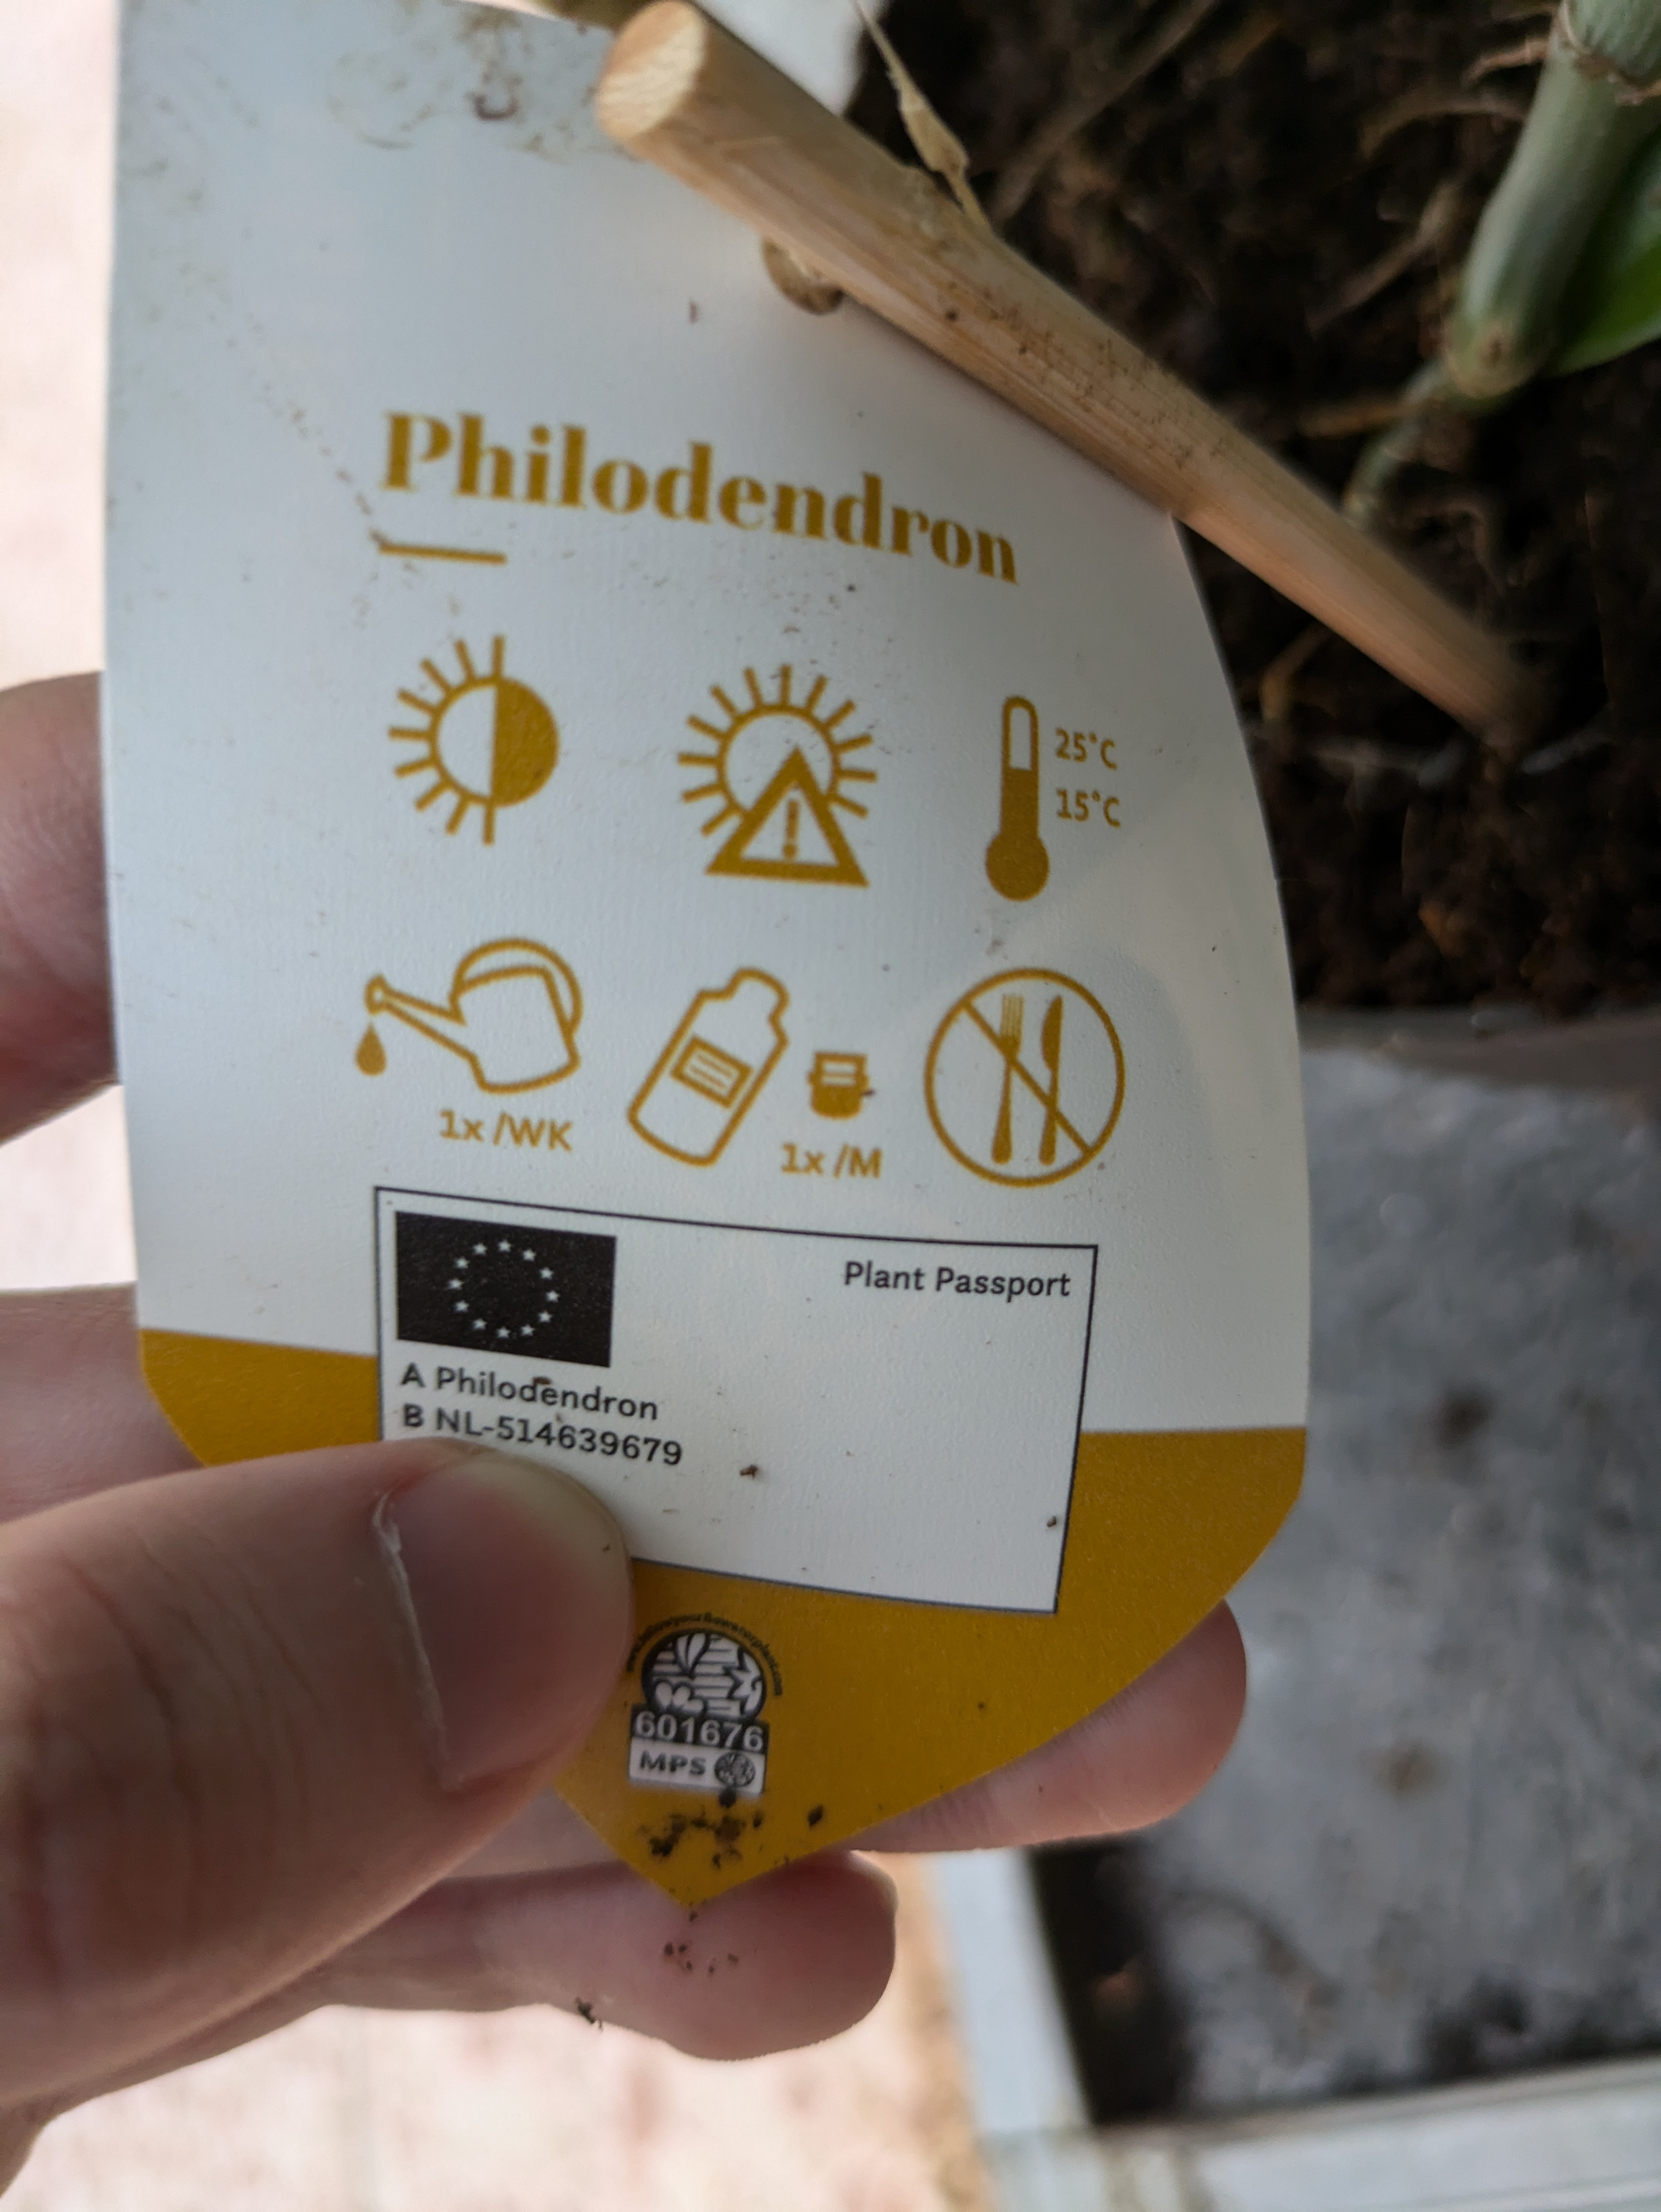halb sonnig: (348, 619, 573, 841)
keine Sonne: (653, 627, 898, 890)
mittel oft gießen: (336, 925, 585, 1169)
